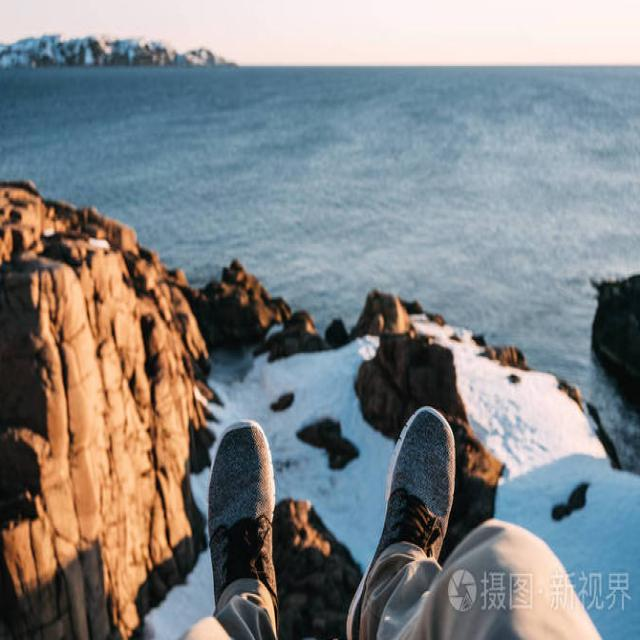reef: (345, 247, 532, 409), (173, 258, 317, 355)
